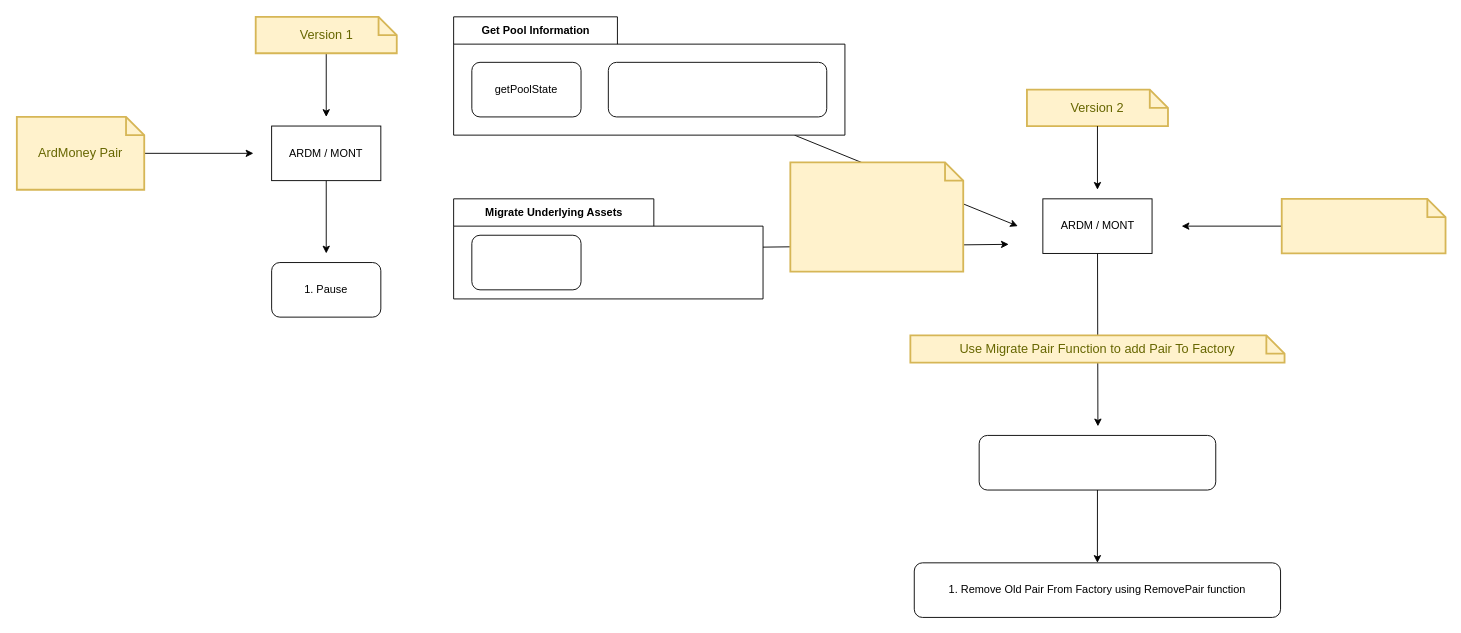
Some shapes in this 1461 by 633 pixel diagram are drawn without their labels. The shapes that lost their labels are listed below. From the top down, each one's centre as x and y in pixels, then its label:
(717,89): getPoolHasBalanceAddresses
(876,216): Migrate State , Tokens
(1363,225): Manually Create
(526,262): migrateTokens()
(1097,462): ArdMoney Factory
